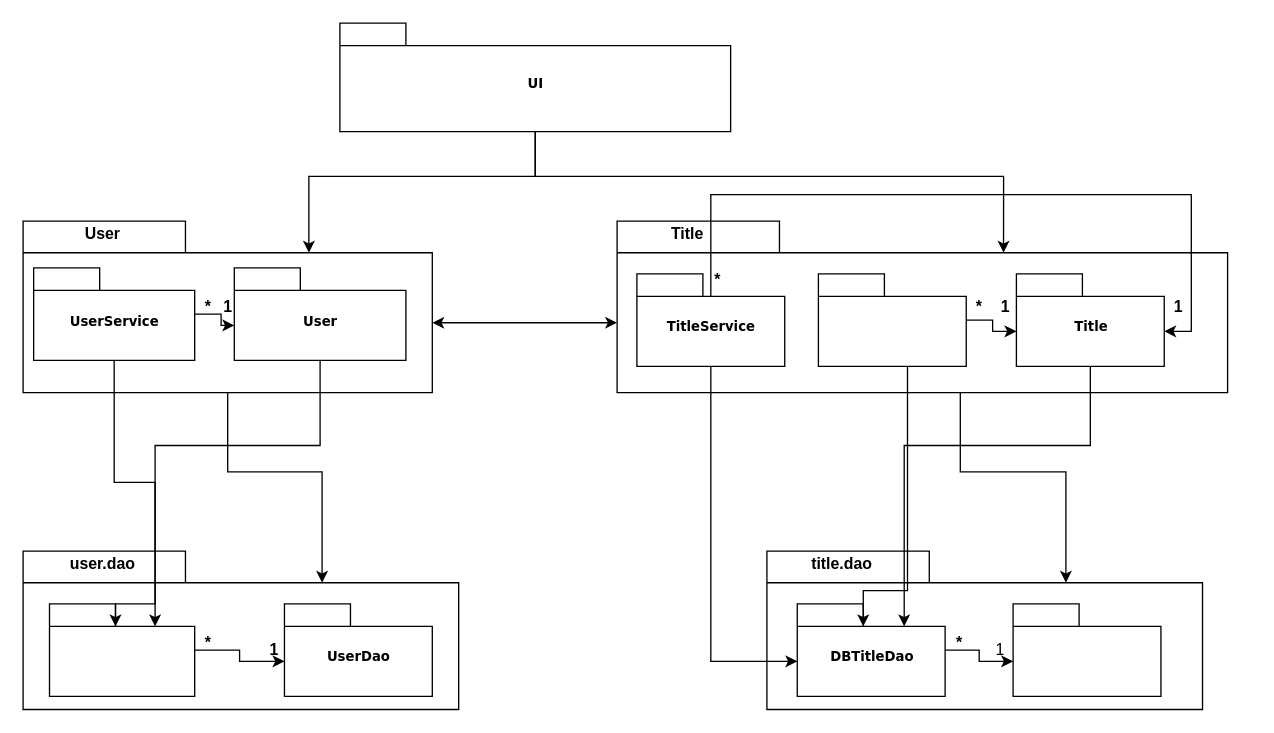
Some shapes in this 1274 by 733 pixel diagram are drawn without their labels. The shapes that lost their labels are listed below. From the top down, each one's centre as x and y in pixels, then its label:
the point at 891,319: TitleListService
the point at 121,649: DBUserDao
the point at 1086,649: TitleDao
